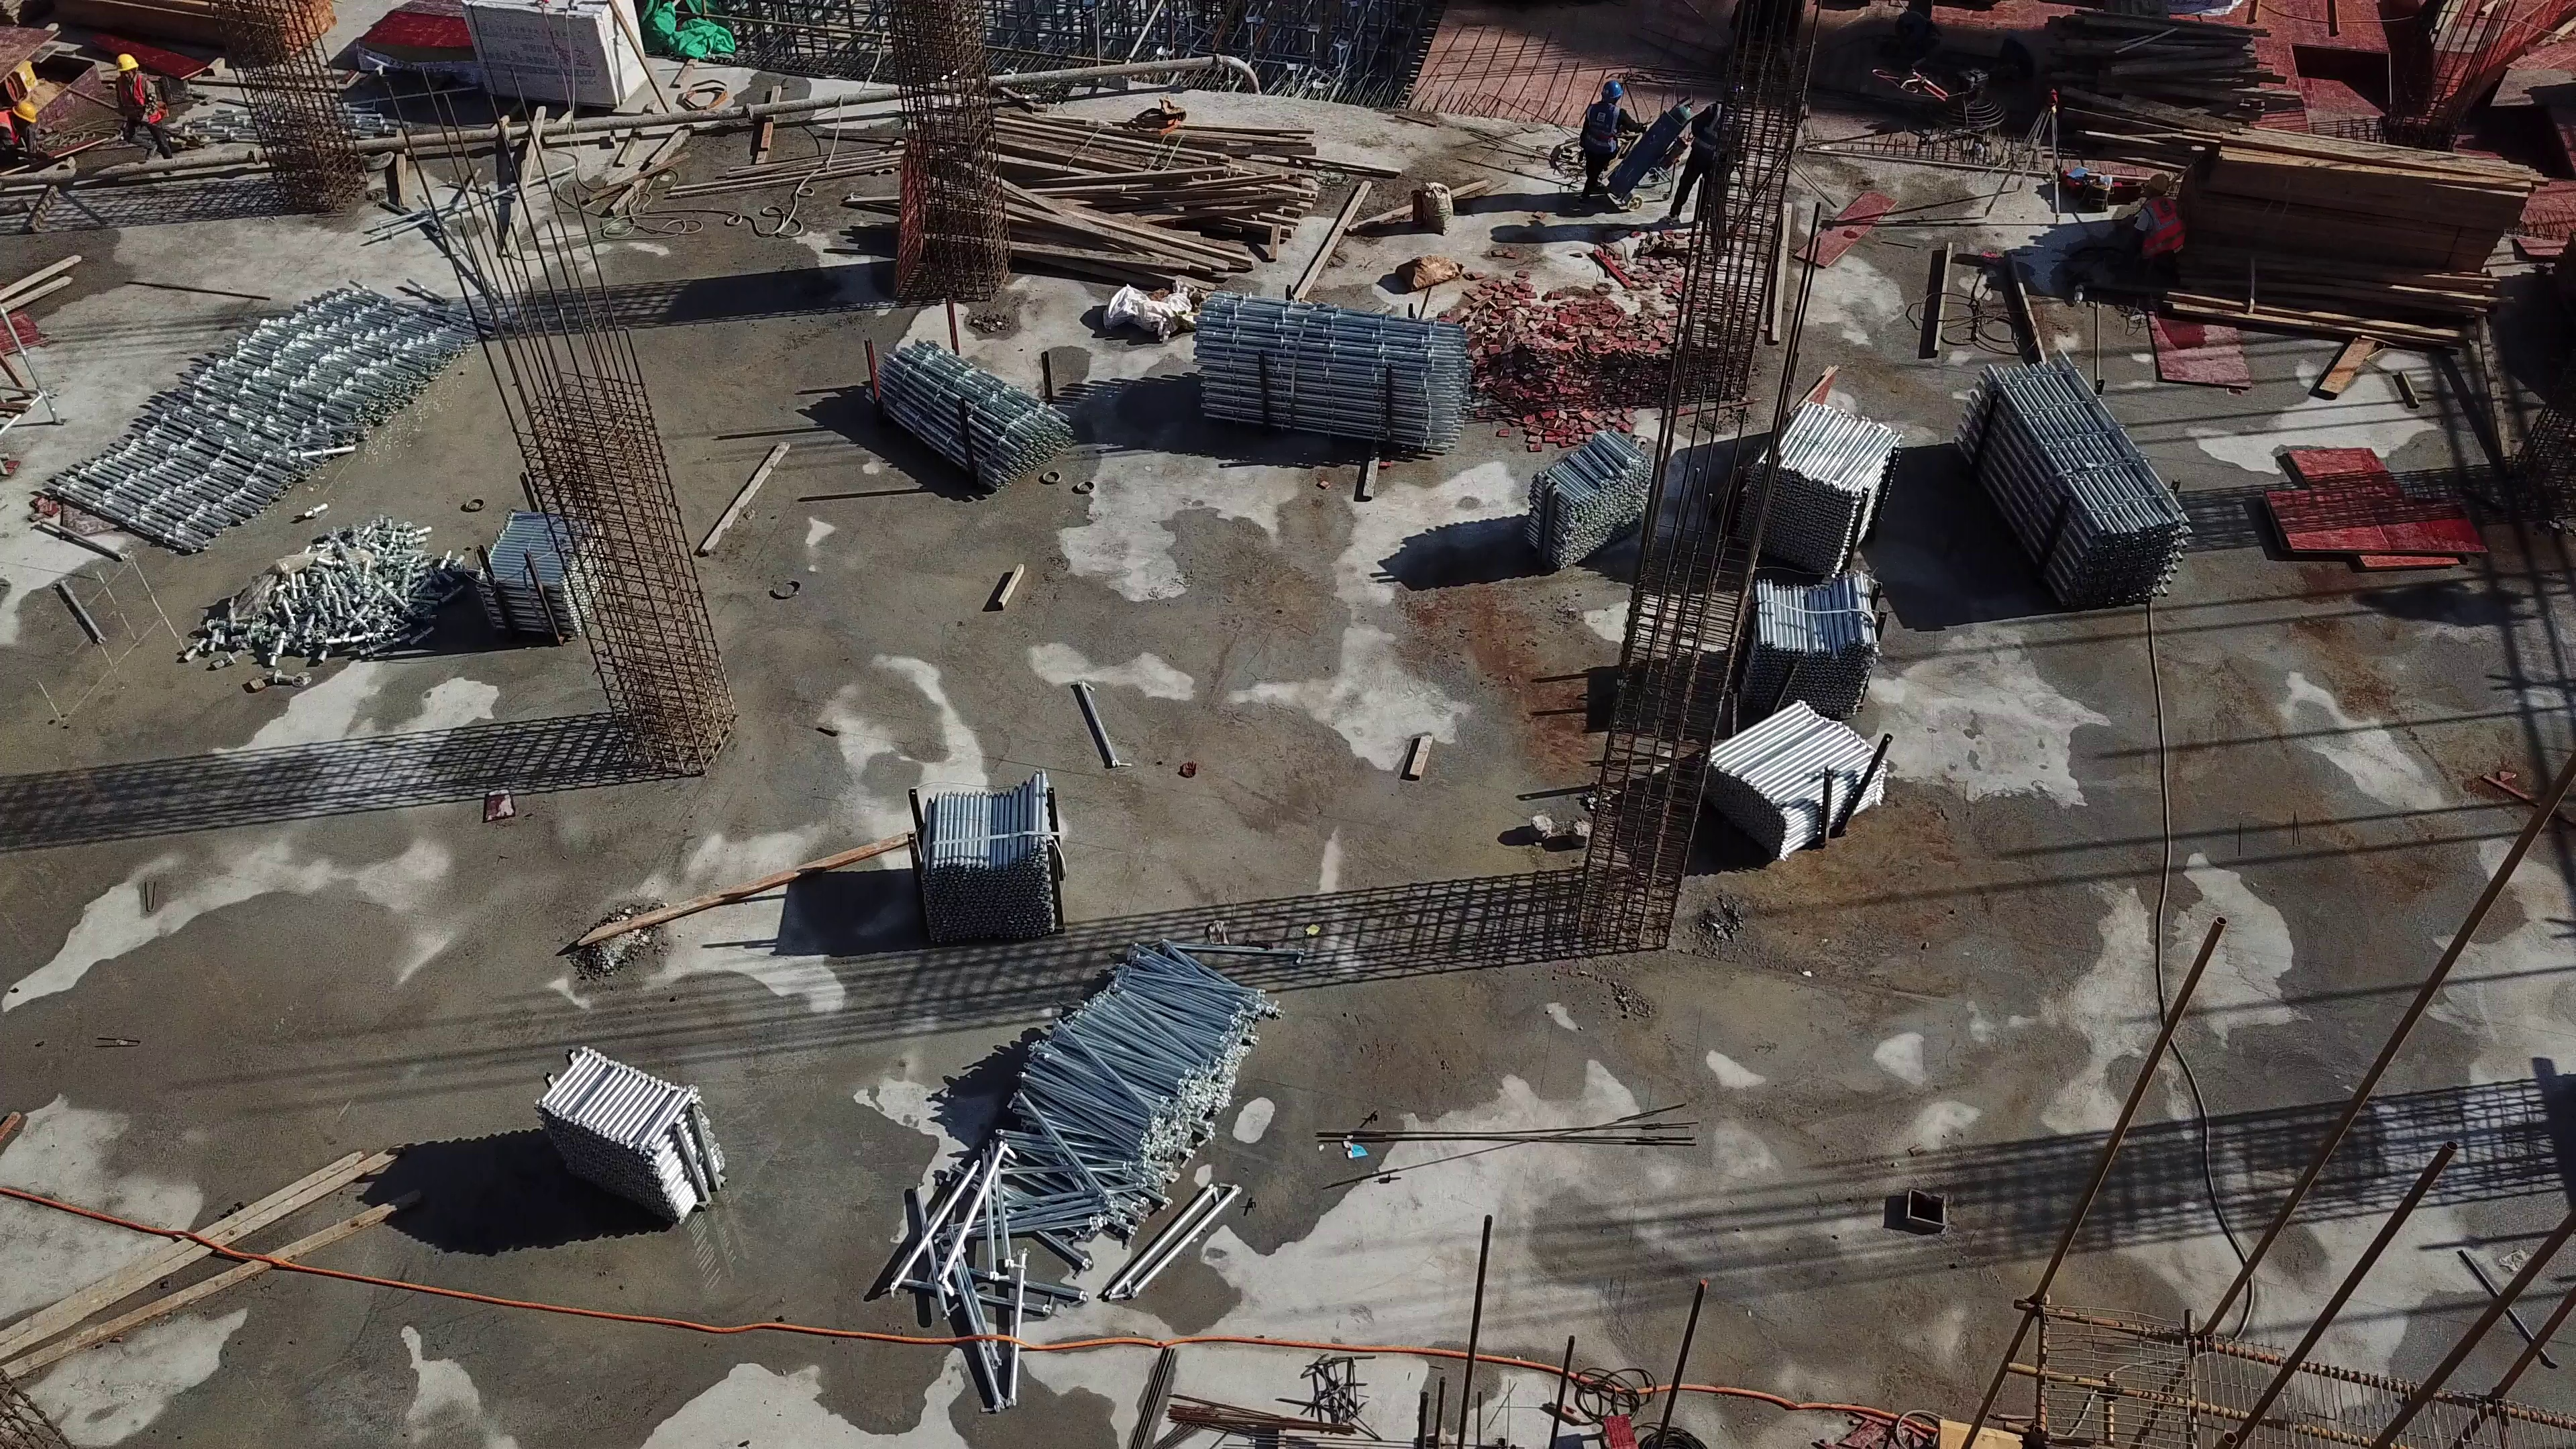board: (2257, 431, 2495, 580)
helmet: (1597, 79, 1630, 101), (2147, 172, 2173, 193), (115, 52, 140, 74)
person: (1661, 85, 1750, 251), (1577, 77, 1643, 197), (2121, 172, 2185, 296), (115, 49, 174, 158)
scaffold: (29, 267, 488, 558), (940, 944, 1285, 1249), (1950, 350, 2188, 615), (1182, 286, 1483, 460), (529, 1044, 735, 1229), (864, 333, 1073, 500), (1743, 394, 1906, 580), (1692, 716, 1888, 852), (915, 781, 1064, 945), (1526, 425, 1658, 570), (1748, 570, 1876, 715)
wood: (2145, 117, 2541, 383), (907, 86, 1344, 293)
